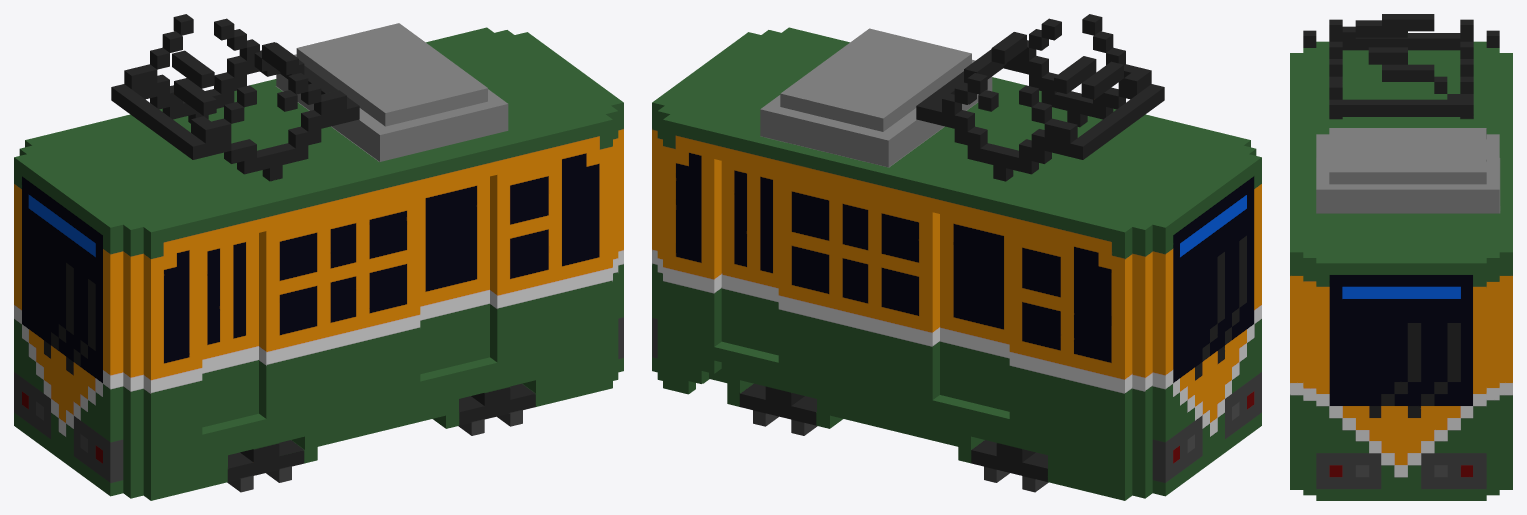
Rendered from kagoshimashiden2.glb.
3 renders of one model, left to right at view 1: azimuth 30°, elevation 25°; view 2: azimuth 150°, elevation 25°; view 3: azimuth 270°, elevation 25°, orthographic. The views are drawn at different scales.
Visible parts, largest first — view 1: kagoshimashiden2; view 2: kagoshimashiden2; view 3: kagoshimashiden2.
Boxes of the visible parts, <box> form: kagoshimashiden2: <box>14,14,623,500</box>; kagoshimashiden2: <box>652,14,1261,500</box>; kagoshimashiden2: <box>1290,14,1512,500</box>.
Bounding box in the file's own units: 0.8 × 0.56 × 0.34.
Materials: 1 (1 with a texture image).
